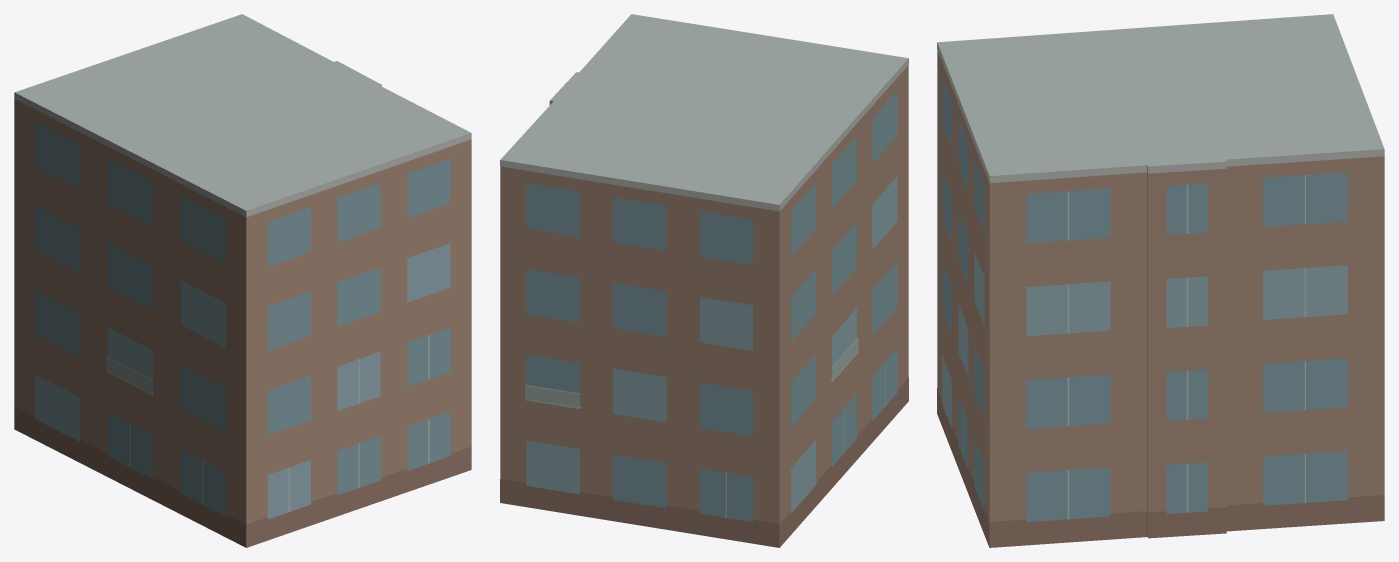
Rendered from survey-upis-32937131.glb.
3 renders of one model, left to right at view 1: azimuth 30°, elevation 25°; view 2: azimuth 150°, elevation 25°; view 3: azimuth 270°, elevation 25°, orthographic. The views are drawn at different scales.
Visible parts, largest first — view 1: survey-upis-32937131.tmp; view 2: survey-upis-32937131.tmp; view 3: survey-upis-32937131.tmp.
Part boxes in pixels (x1,y1,x2,y2): survey-upis-32937131.tmp: [14, 14, 471, 547]; survey-upis-32937131.tmp: [500, 14, 908, 547]; survey-upis-32937131.tmp: [937, 14, 1384, 547].
Size of the model in its own units: 11.99 by 12.8 by 13.97.
